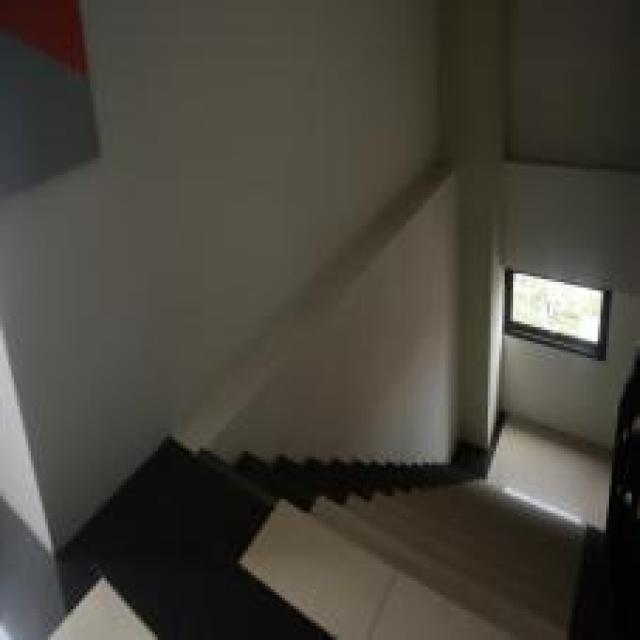downstair: (255, 483, 500, 638)
